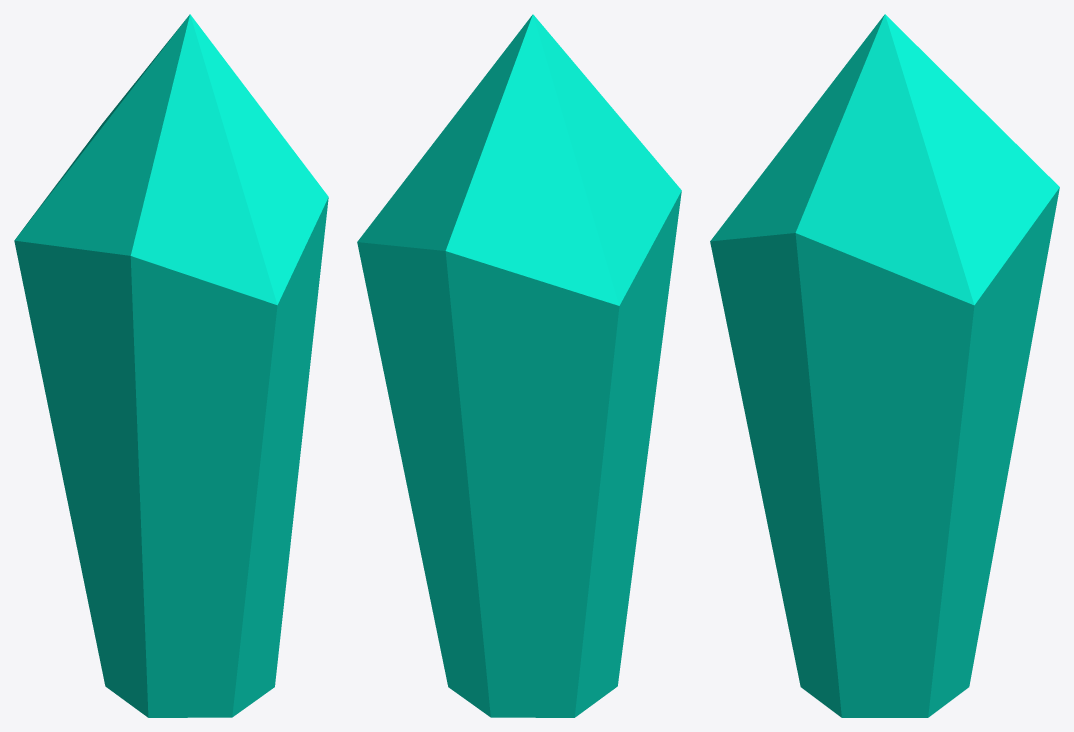
Rendered from Crystal-A05.fbx.
3 renders of one model, left to right at view 1: azimuth 30°, elevation 25°; view 2: azimuth 150°, elevation 25°; view 3: azimuth 270°, elevation 25°, orthographic.
Visible parts, largest first — view 1: Crystal-A05; view 2: Crystal-A05; view 3: Crystal-A05.
Boxes of the visible parts, x1,y1,x2,y2 form: Crystal-A05: (14, 14, 328, 717); Crystal-A05: (357, 14, 681, 717); Crystal-A05: (710, 14, 1059, 717).
Size of the model in its own units: 32.74 by 80.23 by 37.79.
